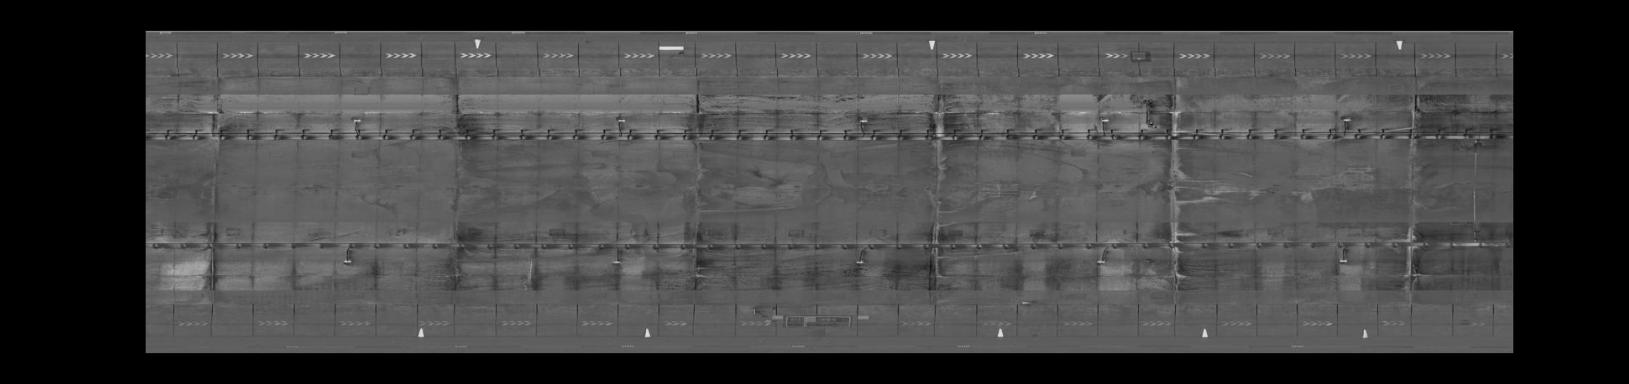light: (1330, 254, 1352, 269), (339, 255, 355, 267), (1094, 116, 1114, 126), (1091, 257, 1111, 267), (1337, 114, 1353, 125), (850, 258, 869, 267), (609, 257, 625, 267), (855, 116, 870, 126), (348, 117, 366, 125), (614, 116, 630, 124)
